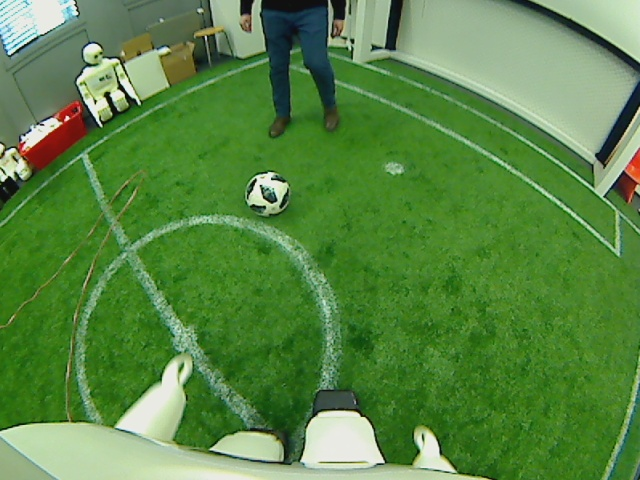ball: (245, 169, 290, 216)
